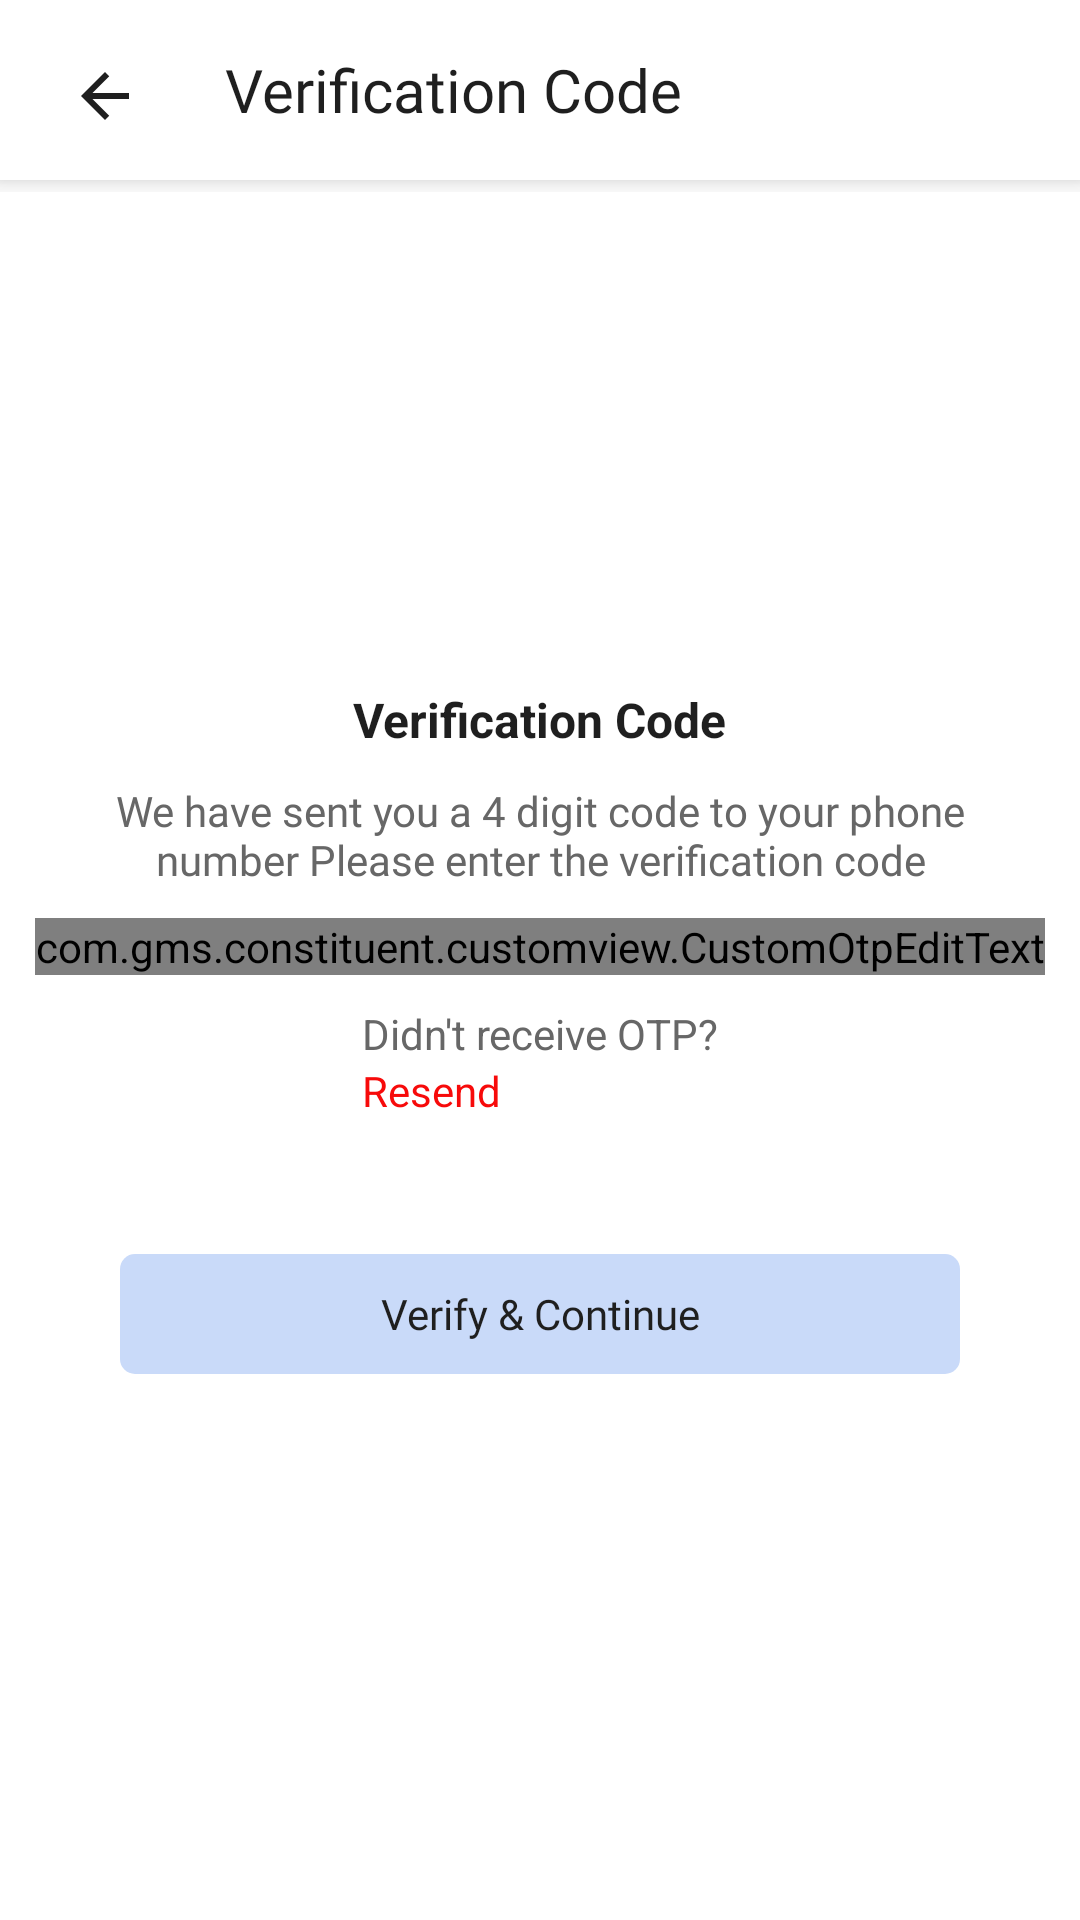

Named icons in this screenshot (1080px x 1920px) and their bounding boxes, (x1, y1, x2, y2):
back: (81, 72, 129, 120)
